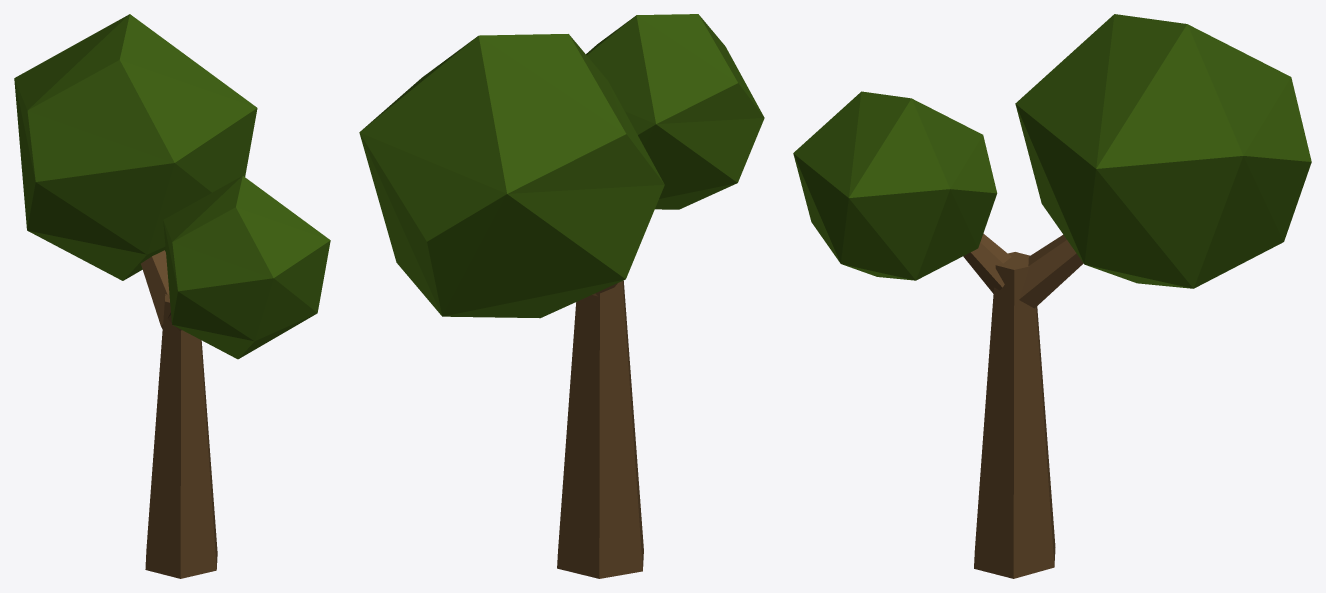
File: tree_2.glb
3 renders of one model, left to right at view 1: azimuth 30°, elevation 25°; view 2: azimuth 150°, elevation 25°; view 3: azimuth 270°, elevation 25°, orthographic. The views are drawn at different scales.
Parts seen in each view (by area): view 1: tree_2.001; view 2: tree_2.001; view 3: tree_2.001.
Boxes of the visible parts, left/top/right/bottom form: tree_2.001: left=14, top=14, right=330, bottom=578; tree_2.001: left=359, top=14, right=764, bottom=578; tree_2.001: left=793, top=14, right=1311, bottom=578.
Size of the model in its own units: 0.4746 by 1.04 by 0.8909.
